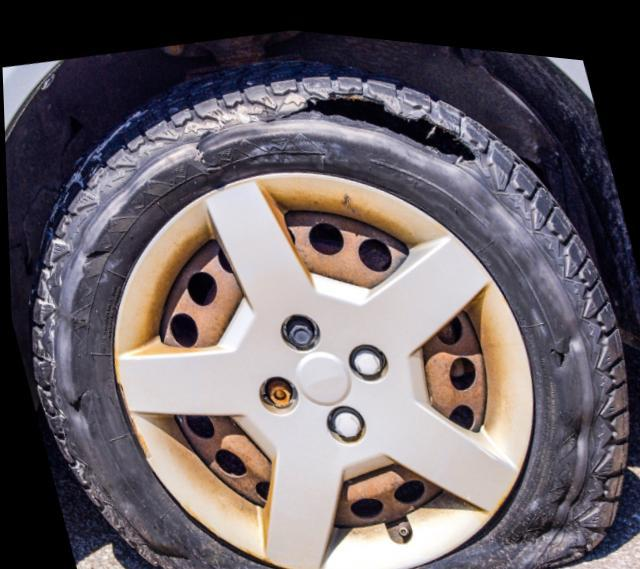tire flat: (30, 49, 627, 569)
